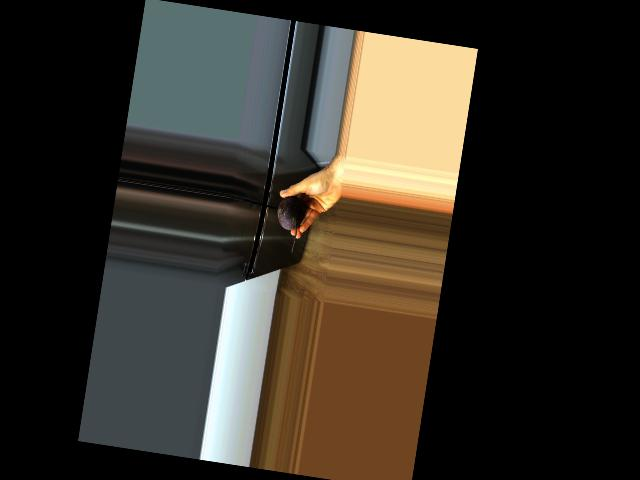beet: (271, 194, 306, 254)
